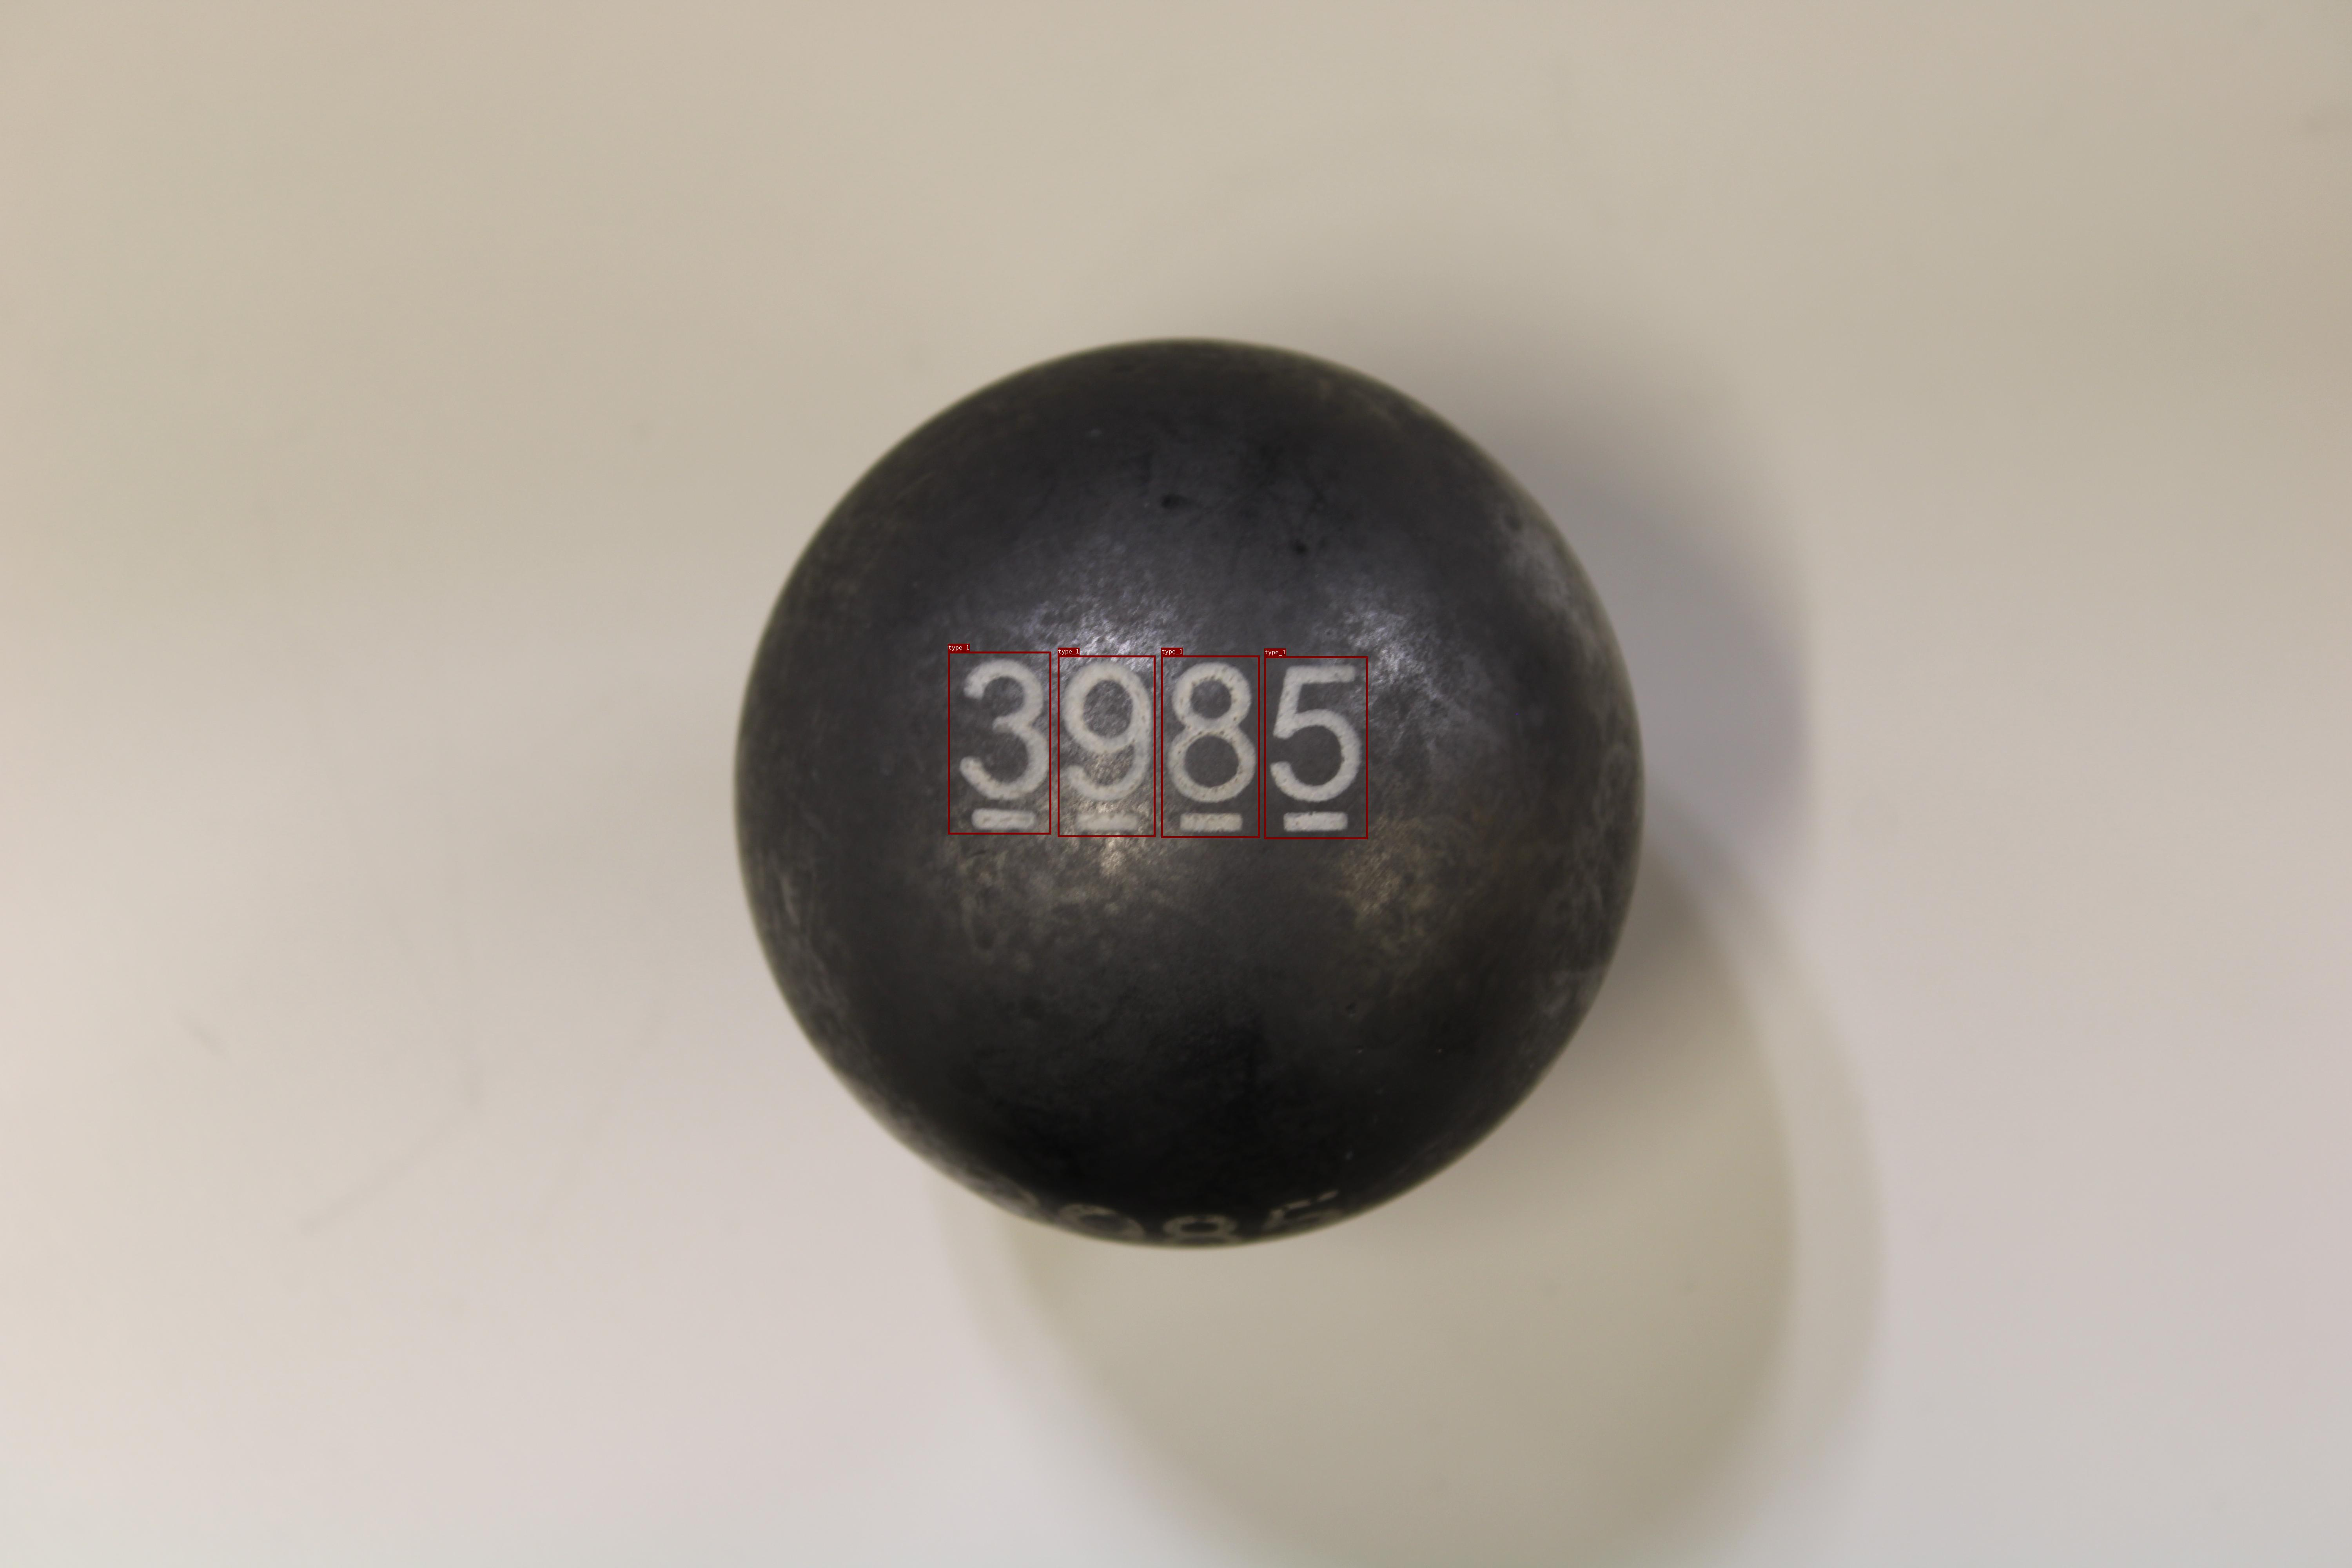type_1: (1263, 656, 1369, 838), (949, 651, 1052, 835), (1160, 656, 1260, 838), (1057, 656, 1155, 837)
